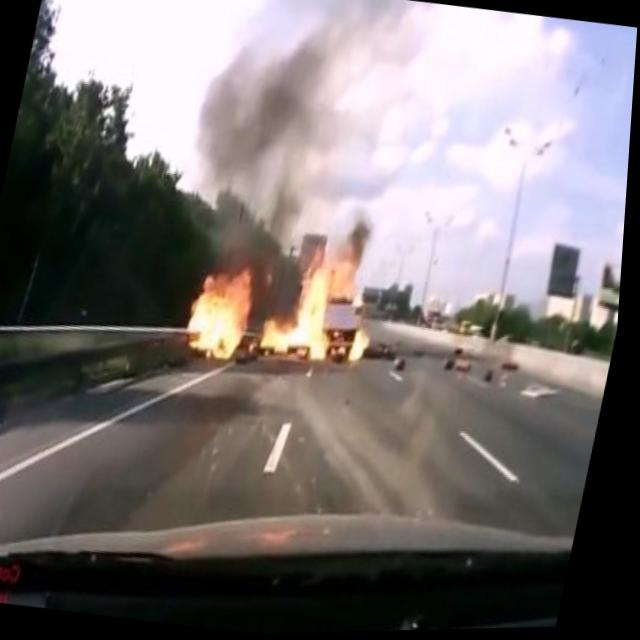fire: (182, 209, 399, 393)
